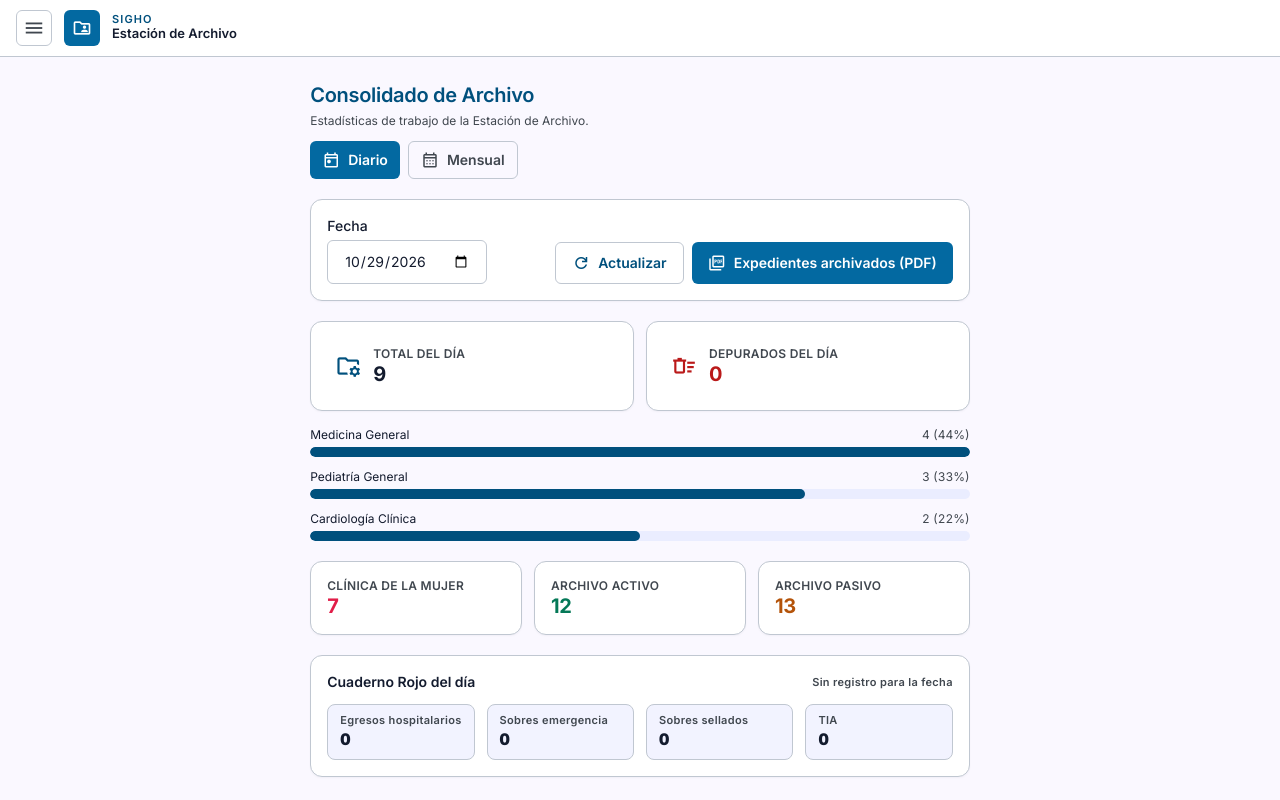
Test: ConsolidadoArchivoPage › cambia a la pestaña mensual y muestra las tablas del informe
This screenshot has width=1280, height=800.
Step 1. Click the tab "Mensual" → click(463, 160), box [408,141,518,179]
(page scrolled)
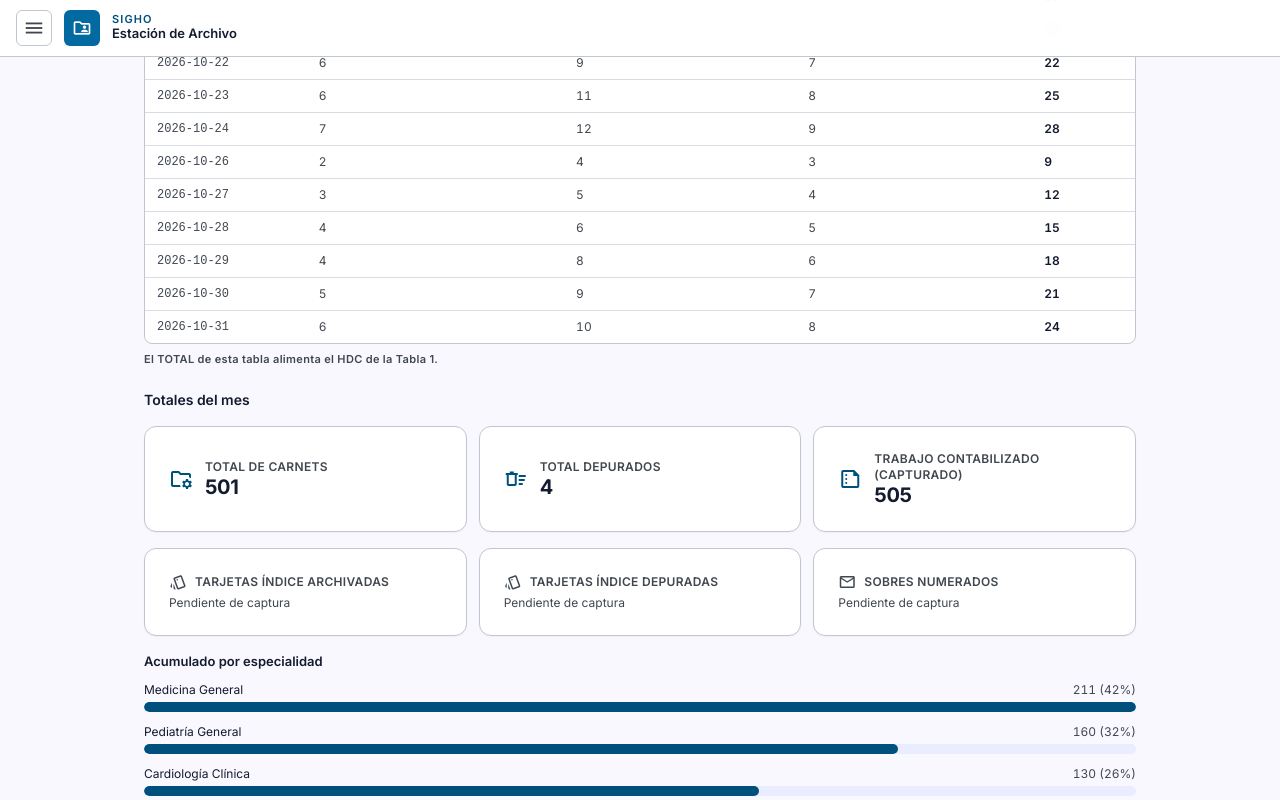
Expected: the heading "Totales del mes" is shown, [144,391,250,408]
